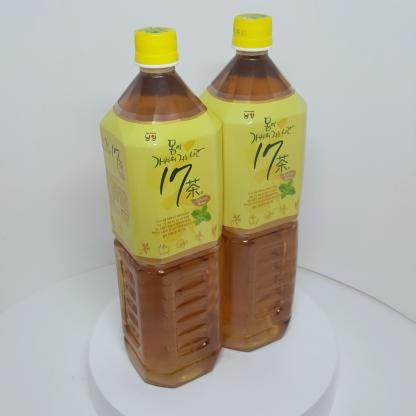--17----1-5L: (100, 27, 223, 388), (198, 13, 307, 352)
